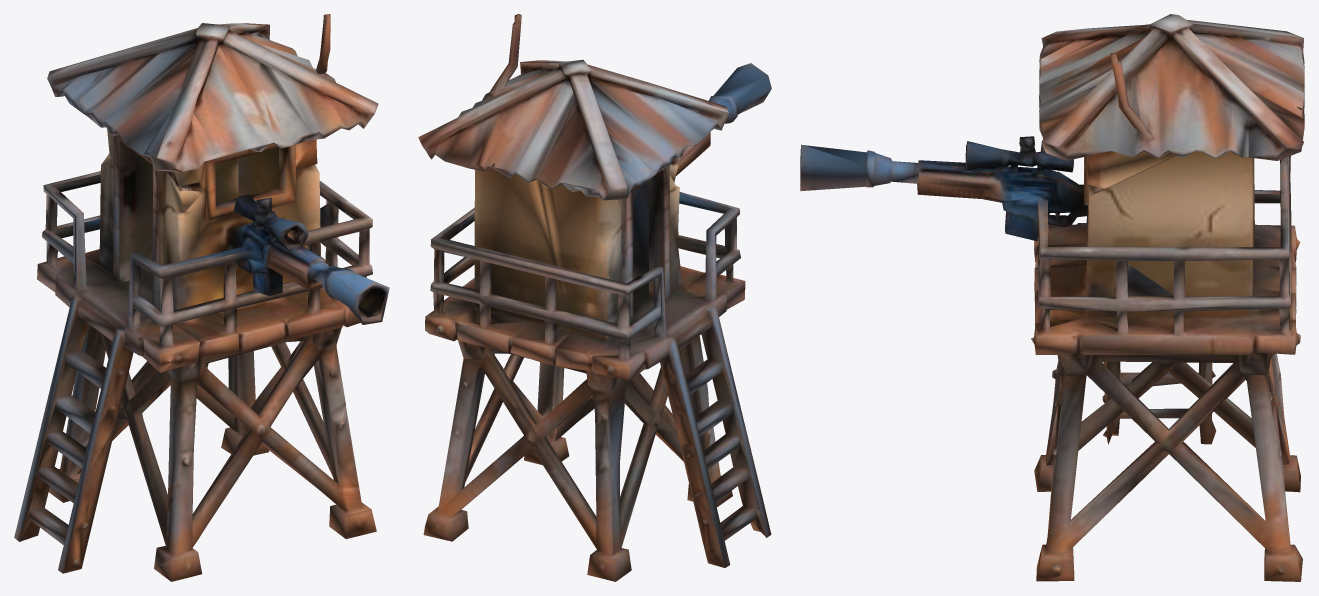
Rendered from jujita-2.glb.
3 views of the same model, side by side, from view 1: azimuth 30°, elevation 25°; view 2: azimuth 150°, elevation 25°; view 3: azimuth 270°, elevation 25° (orthographic). The views are drawn at different scales.
Visible parts, largest first — view 1: node_0; view 2: node_0; view 3: node_0.
Boxes of the visible parts, x1=… form: node_0: x1=14, y1=14, x2=389, y2=581; node_0: x1=418, y1=14, x2=771, y2=581; node_0: x1=800, y1=14, x2=1304, y2=581.
Size of the model in its own units: 0.5177 by 0.8356 by 0.7333.
1 material, 1 textured.
